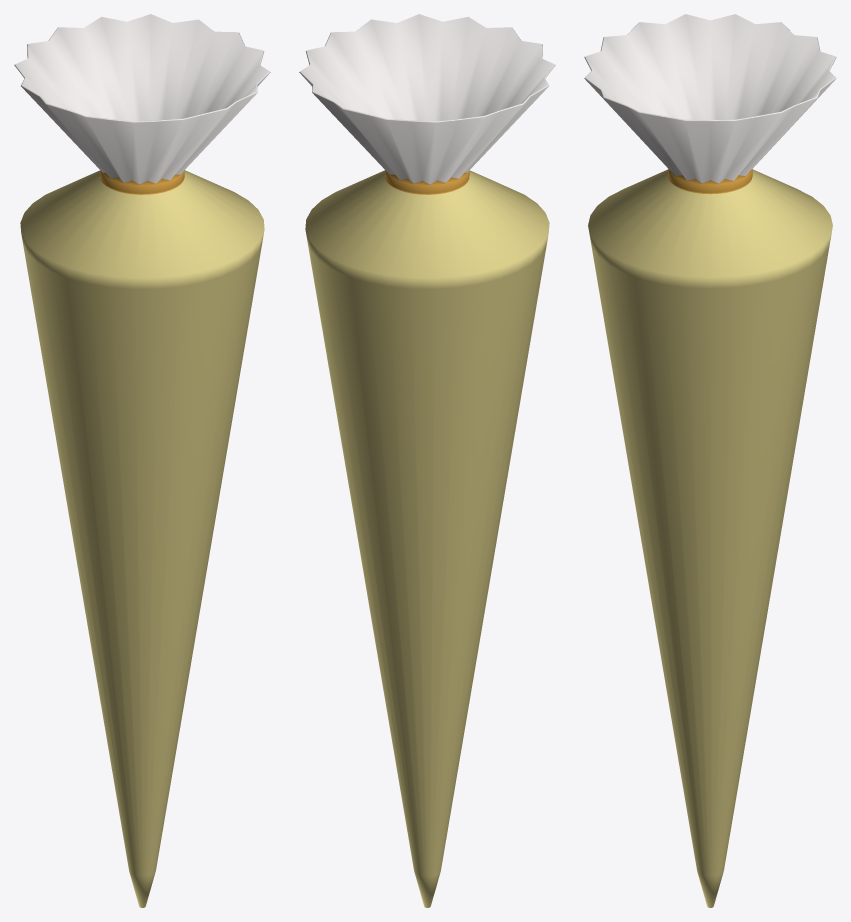
File: piping bag cheese.fbx
3 views of the same model, side by side, from view 1: azimuth 30°, elevation 25°; view 2: azimuth 150°, elevation 25°; view 3: azimuth 270°, elevation 25° (orthographic).
Parts seen in each view (by area): view 1: Cylinder; view 2: Cylinder; view 3: Cylinder.
Boxes of the visible parts, x1,y1,x2,y2 form: Cylinder: (14, 14, 270, 907); Cylinder: (299, 14, 555, 907); Cylinder: (584, 14, 836, 907).
Size of the model in its own units: 114 by 417 by 114.
1 material, 1 textured.
